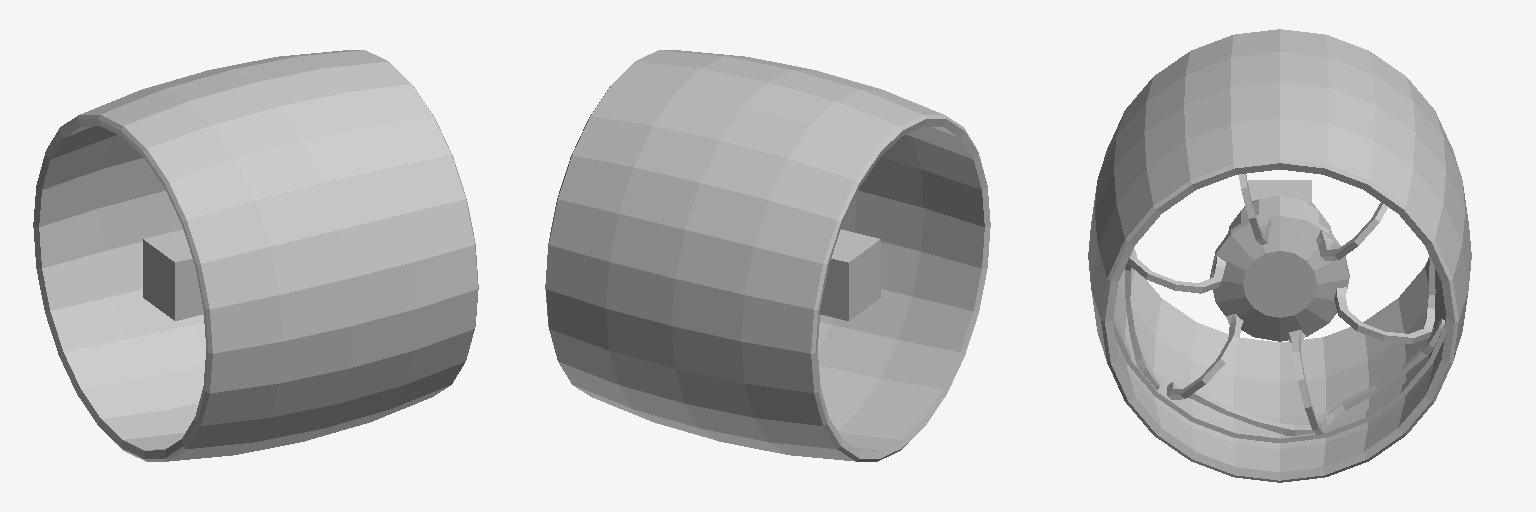
Rendered from wheel.obj.
3 renders of one model, left to right at view 1: azimuth 30°, elevation 25°; view 2: azimuth 150°, elevation 25°; view 3: azimuth 270°, elevation 25°, orthographic.
Parts seen in each view (by area): view 1: wheel_01_L_Cylinder.015; view 2: wheel_01_L_Cylinder.015; view 3: wheel_01_L_Cylinder.015.
Boxes of the visible parts, x1=… form: wheel_01_L_Cylinder.015: x1=33, y1=50, x2=478, y2=461; wheel_01_L_Cylinder.015: x1=545, y1=50, x2=990, y2=461; wheel_01_L_Cylinder.015: x1=1088, y1=29, x2=1471, y2=482.
Size of the model in its own units: 0.3947 by 0.4853 by 0.4853.